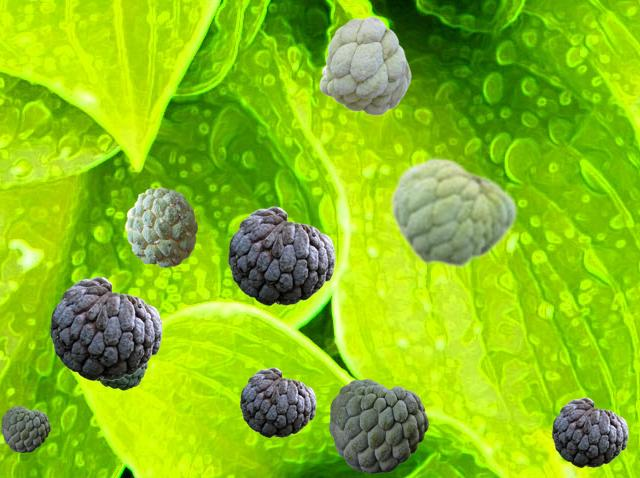atis: (389, 156, 516, 268), (50, 276, 161, 379), (228, 206, 334, 304), (329, 379, 427, 472), (319, 16, 410, 114), (125, 187, 196, 266), (552, 397, 627, 466), (240, 367, 315, 436), (1, 406, 49, 451), (95, 364, 146, 389)
